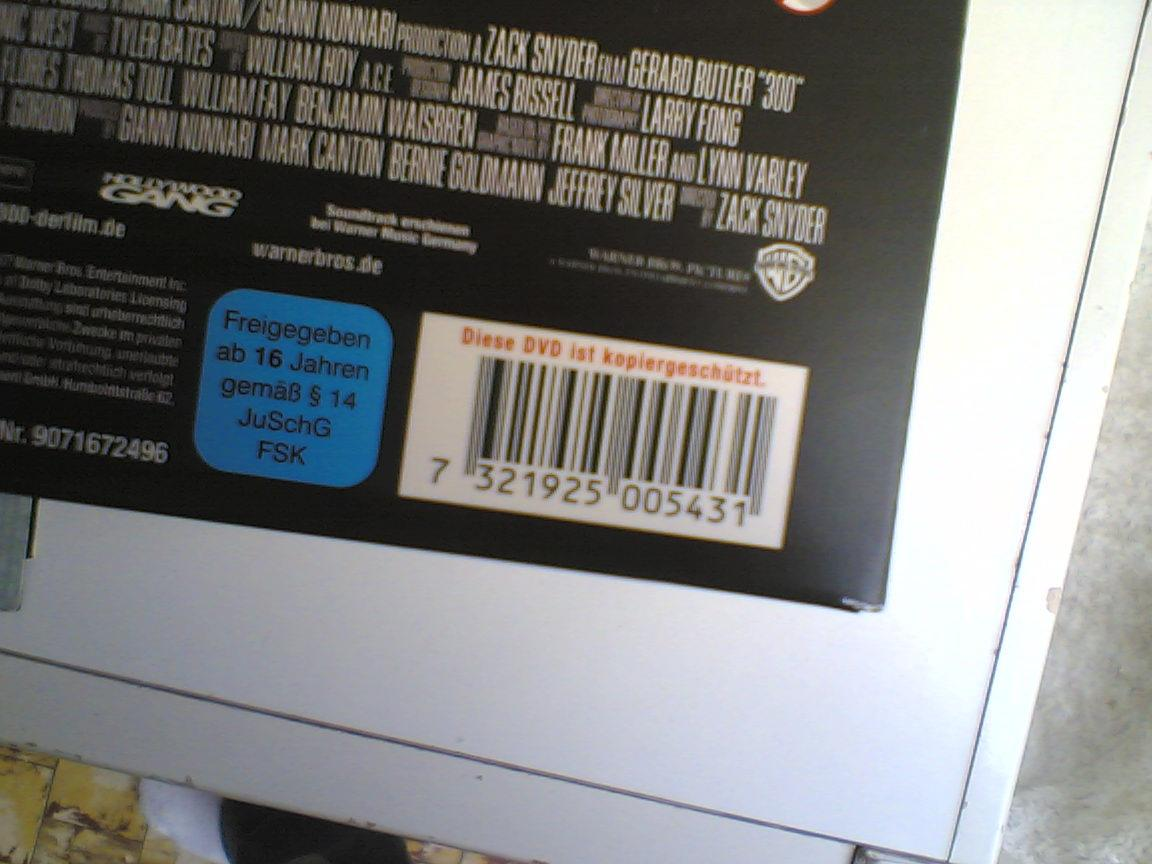Barcode: (397, 310, 810, 552)
